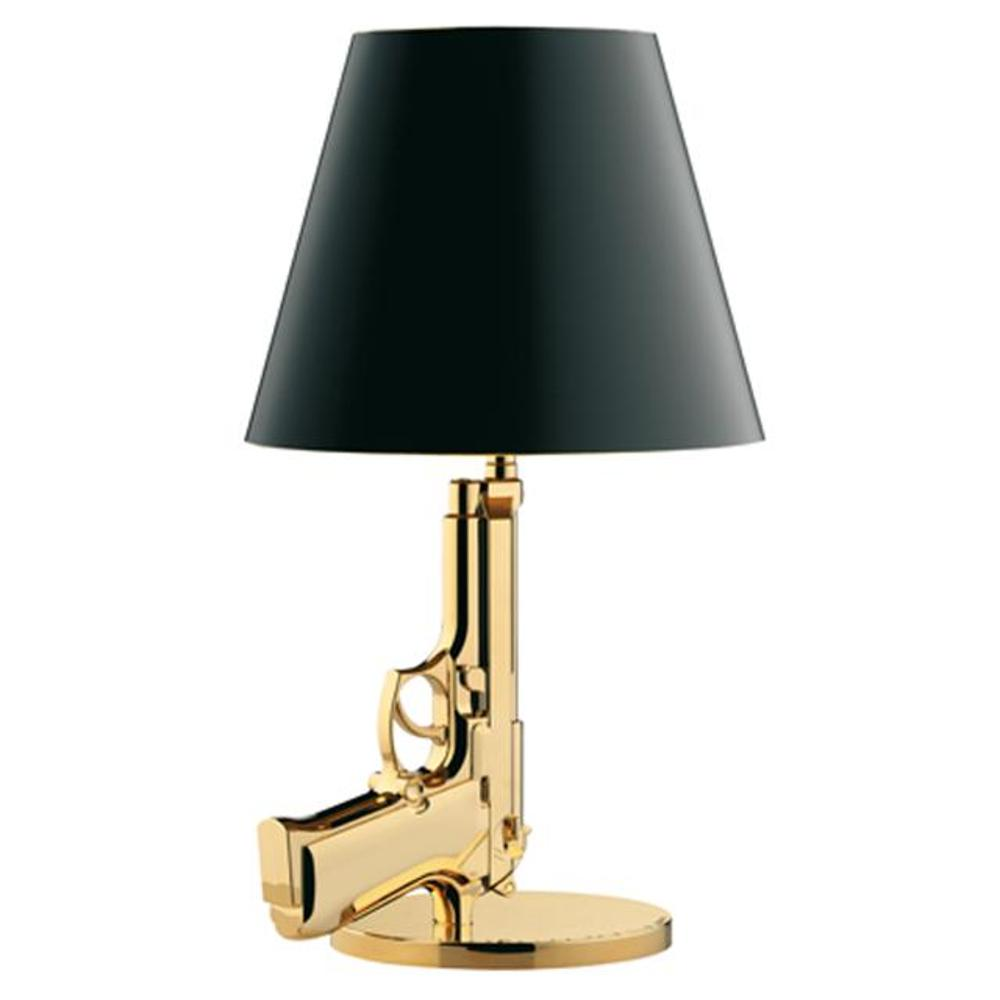shelf: (209, 12, 763, 974)
